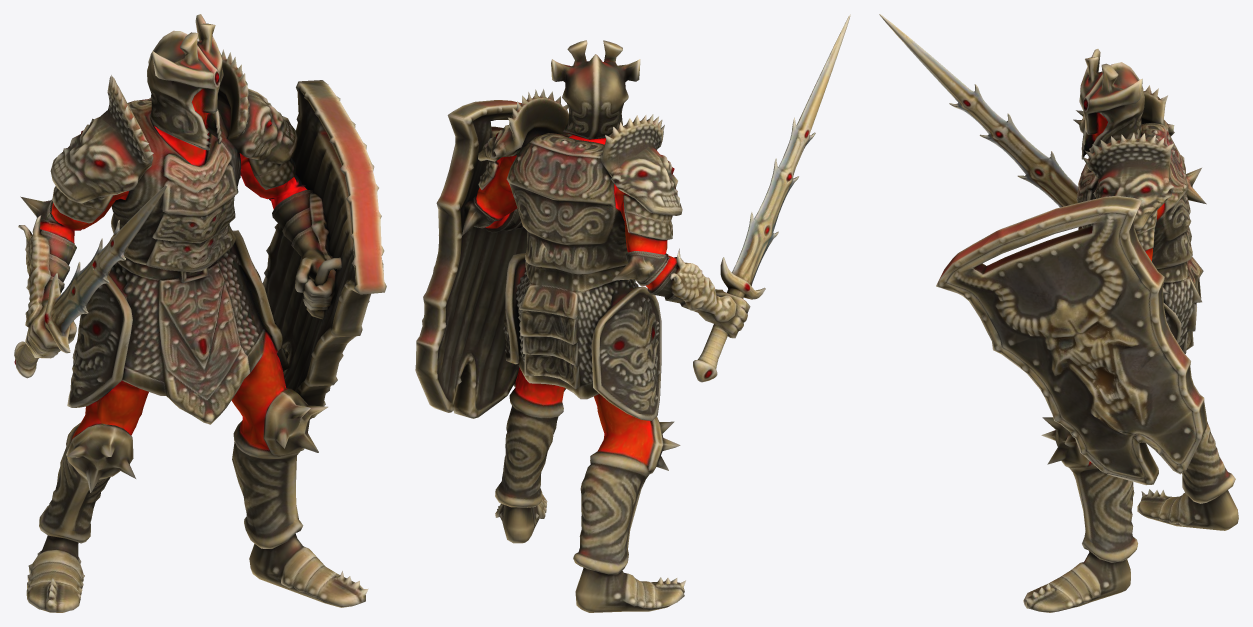
The model's file is MZ4250 - Helmed Horror.glb.
3 renders of one model, left to right at view 1: azimuth 30°, elevation 25°; view 2: azimuth 150°, elevation 25°; view 3: azimuth 270°, elevation 25°, orthographic. The views are drawn at different scales.
Visible parts, largest first — view 1: body_low.001, shield_low.001, sword_low.001, handle_low.001; view 2: body_low.001, shield_low.001, sword_low.001; view 3: shield_low.001, body_low.001, sword_low.001.
Part boxes in pixels (<box>): body_low.001: <box>18,14,368,612</box>; shield_low.001: <box>262,80,386,417</box>; sword_low.001: <box>14,184,167,378</box>; handle_low.001: <box>306,257,341,319</box>; body_low.001: <box>462,40,750,612</box>; shield_low.001: <box>415,100,572,418</box>; sword_low.001: <box>693,14,850,382</box>; shield_low.001: <box>936,195,1206,485</box>; body_low.001: <box>1023,49,1238,612</box>; sword_low.001: <box>879,14,1077,207</box>.
Bounding box in the file's own units: 3.6 × 6.3 × 4.1.
Materials: 1 (1 with a texture image).
